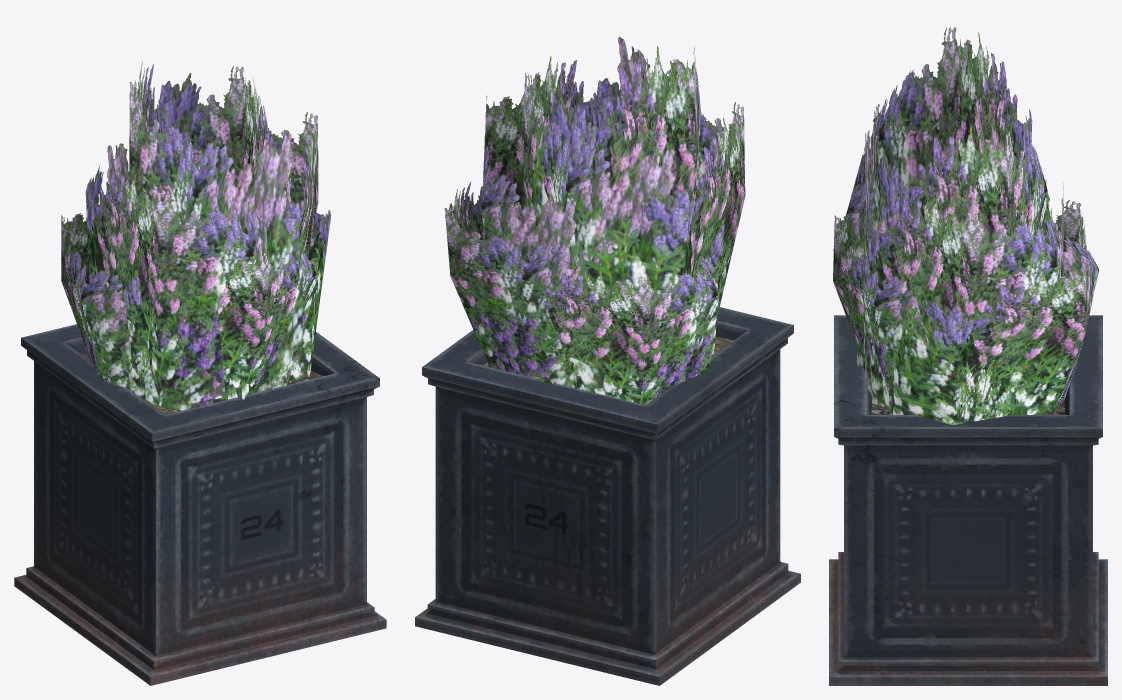
Rendered from Flower_Pot_08.fbx.
The picture shows the model from 3 angles, left to right: view 1: azimuth 30°, elevation 25°; view 2: azimuth 150°, elevation 25°; view 3: azimuth 270°, elevation 25°; orthographic projection. The views are drawn at different scales.
Parts seen in each view (by area): view 1: Flower_Pot_08_LOD0; view 2: Flower_Pot_08_LOD0; view 3: Flower_Pot_08_LOD0.
Part boxes in pixels (bbox=[...]): Flower_Pot_08_LOD0: bbox=[14, 62, 386, 685]; Flower_Pot_08_LOD0: bbox=[415, 36, 800, 685]; Flower_Pot_08_LOD0: bbox=[829, 27, 1107, 685].
Size of what is drawn, in the model's own units: 37.83 by 84.94 by 36.43.
